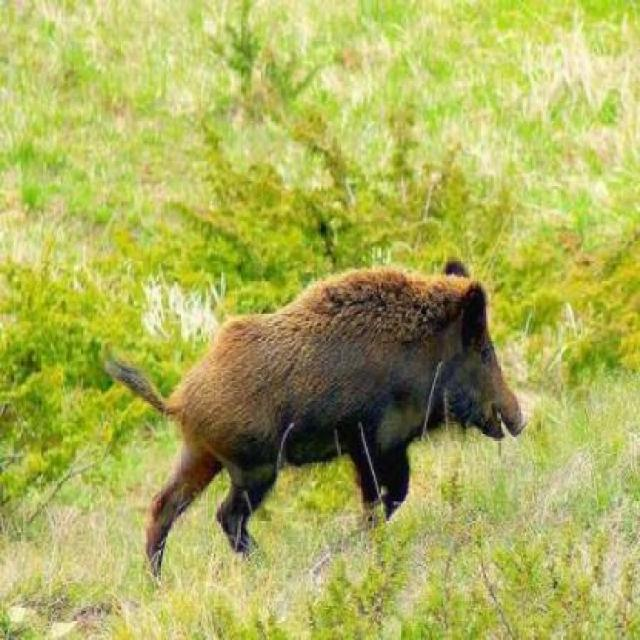Boar: (93, 237, 564, 546)
